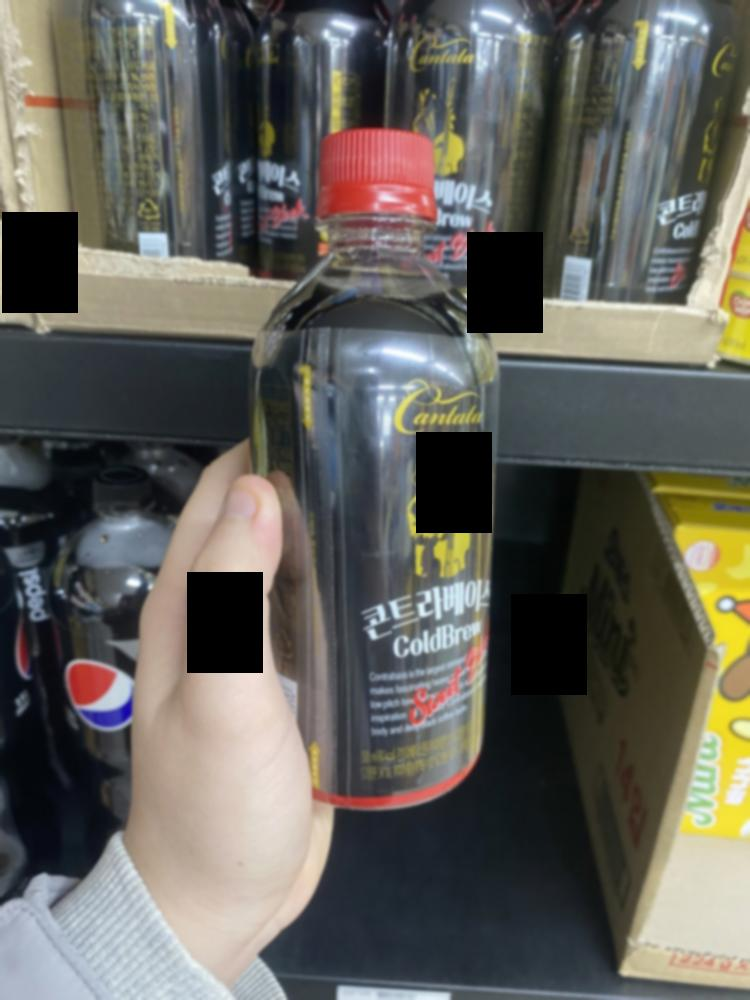contrabass_sweetblack: (243, 128, 494, 813), (533, 0, 735, 309)
